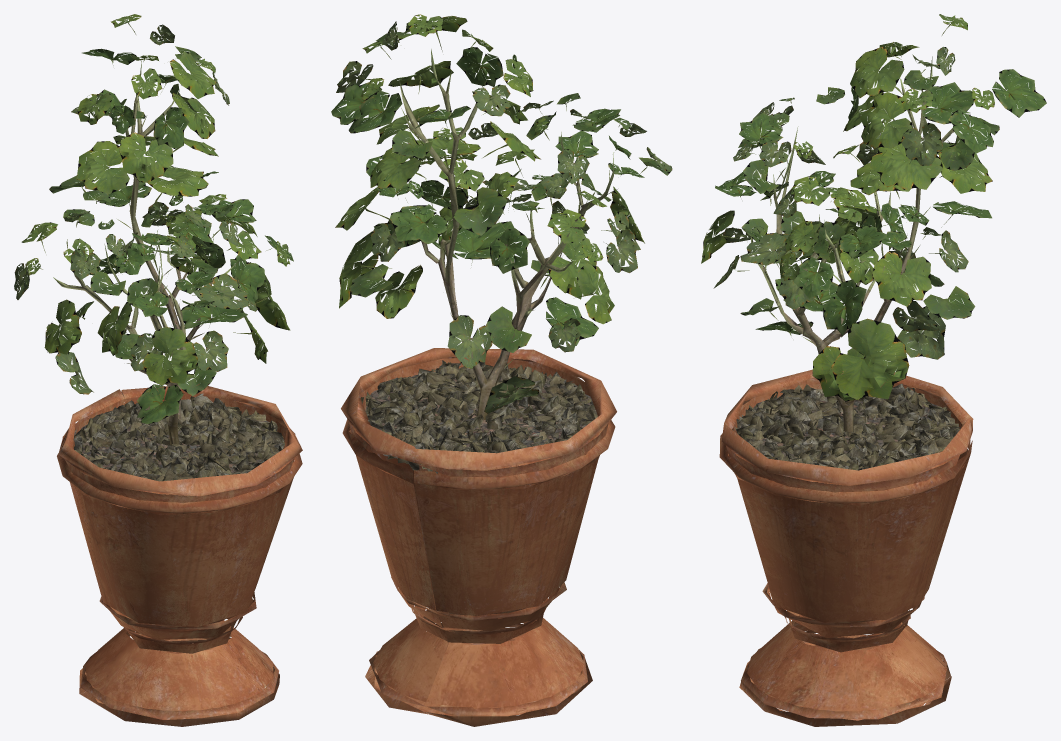
File: potted_plant_01_lod.gltf
3 renders of one model, left to right at view 1: azimuth 30°, elevation 25°; view 2: azimuth 150°, elevation 25°; view 3: azimuth 270°, elevation 25°, orthographic. The views are drawn at different scales.
Visible parts, largest first — view 1: potted_plant_01_pot, potted_plant_01_leaves, potted_plant_01_pebbles, potted_plant_01_stem; view 2: potted_plant_01_pot, potted_plant_01_leaves, potted_plant_01_pebbles, potted_plant_01_stem; view 3: potted_plant_01_pot, potted_plant_01_leaves, potted_plant_01_pebbles, potted_plant_01_stem.
Part boxes in pixels (box(x1,y1,x2,y2)): potted_plant_01_pot: box(57, 384, 302, 726); potted_plant_01_leaves: box(14, 14, 293, 423); potted_plant_01_pebbles: box(73, 393, 284, 494); potted_plant_01_stem: box(53, 58, 241, 444); potted_plant_01_pot: box(341, 348, 616, 726); potted_plant_01_leaves: box(331, 14, 672, 413); potted_plant_01_pebbles: box(360, 357, 597, 473); potted_plant_01_stem: box(399, 49, 613, 420); potted_plant_01_pot: box(719, 369, 973, 726); potted_plant_01_leaves: box(701, 14, 1046, 401); potted_plant_01_pebbles: box(733, 383, 962, 481); potted_plant_01_stem: box(750, 56, 965, 431).
Size of the model in its own units: 0.5854 by 1.34 by 0.6305.
2 materials, 2 textured.
